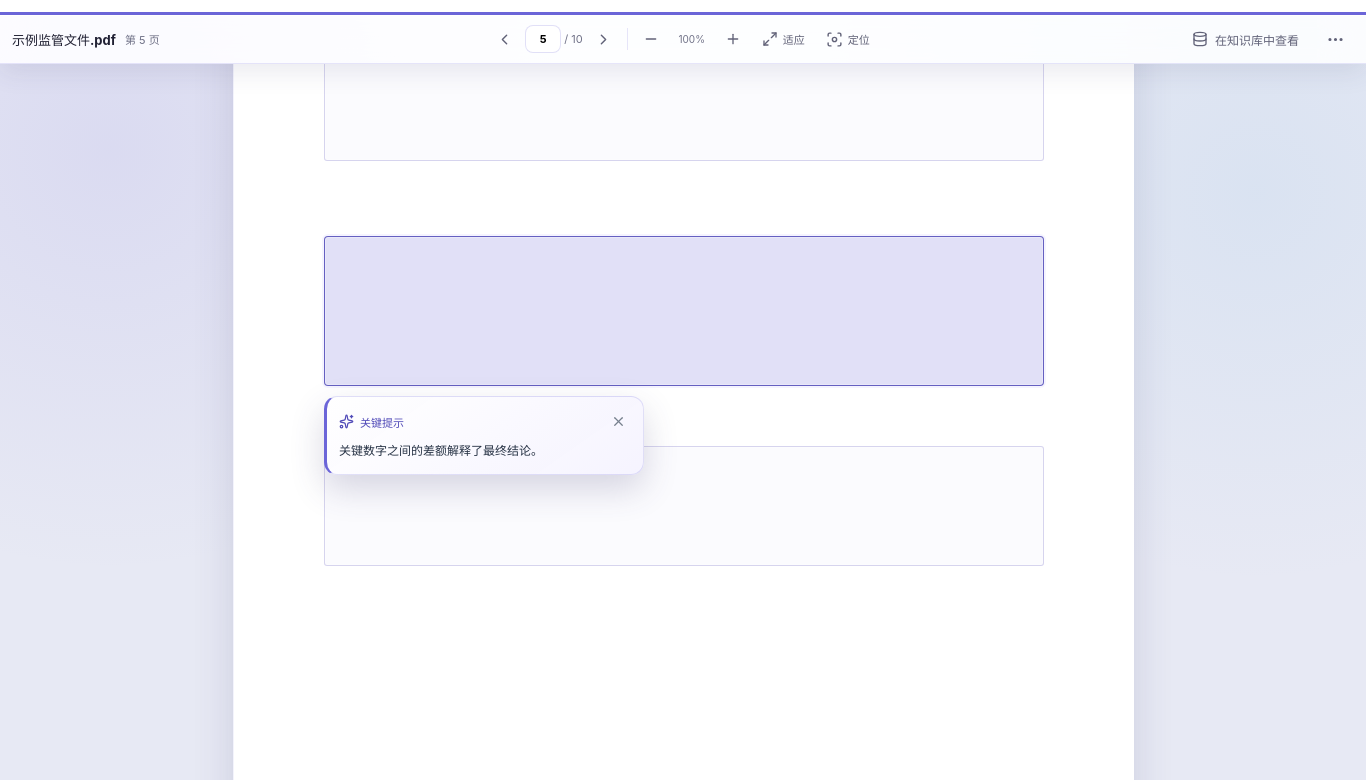
Test: ContinuousSourcePdfViewer › minimizes and restores the insight without changing the locate control
(page scrolled)
Expected: the text "关键数字之间的差额解释了最终结论。" is shown, top-left (339, 443), bottom-right (543, 458)
Click the button named "最小化关键提示".
click(618, 422)  # box top-left (606, 409), bottom-right (631, 434)
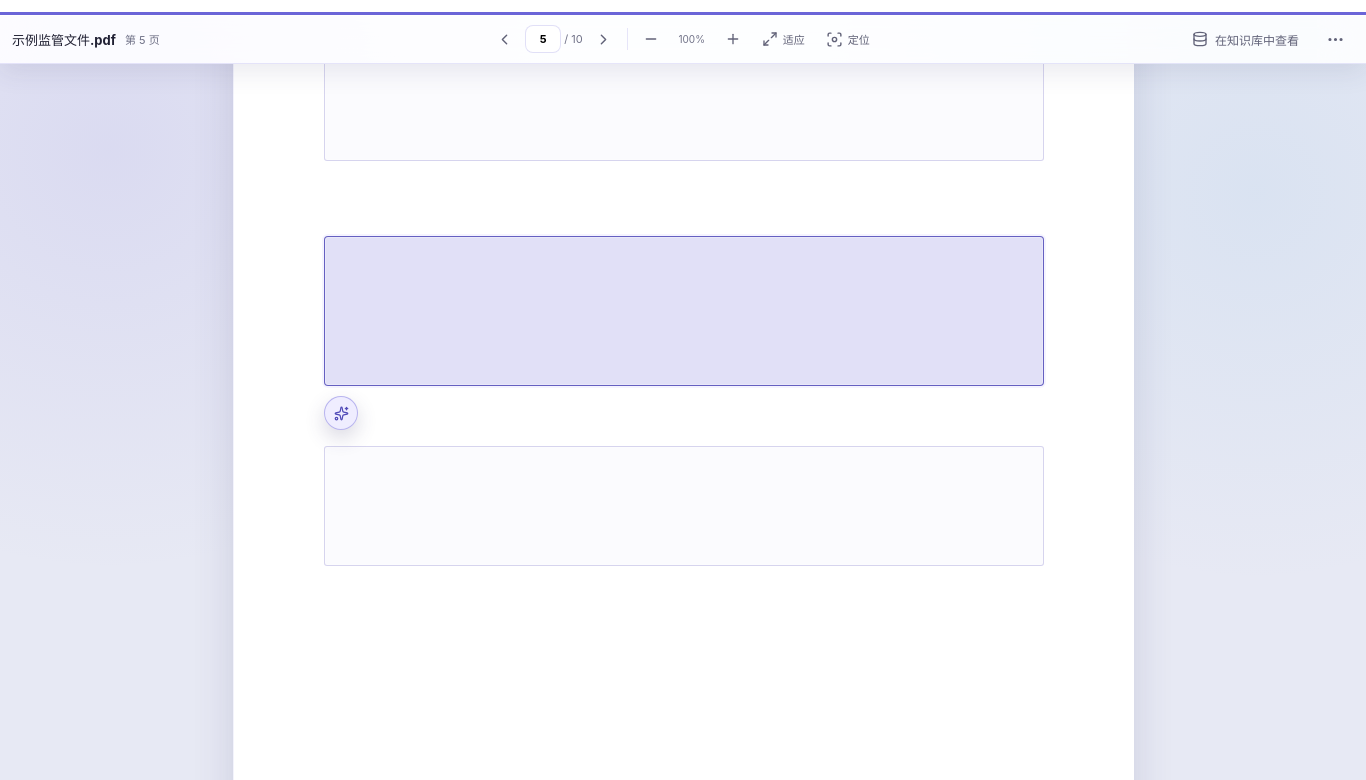
Expected: the text "关键数字之间的差额解释了最终结论。" is gone
Expected: the button named "展开关键提示" is shown, top-left (324, 396), bottom-right (358, 430)
Click the button with aria-label "定位引用".
click(848, 39)  # box top-left (817, 22), bottom-right (879, 56)
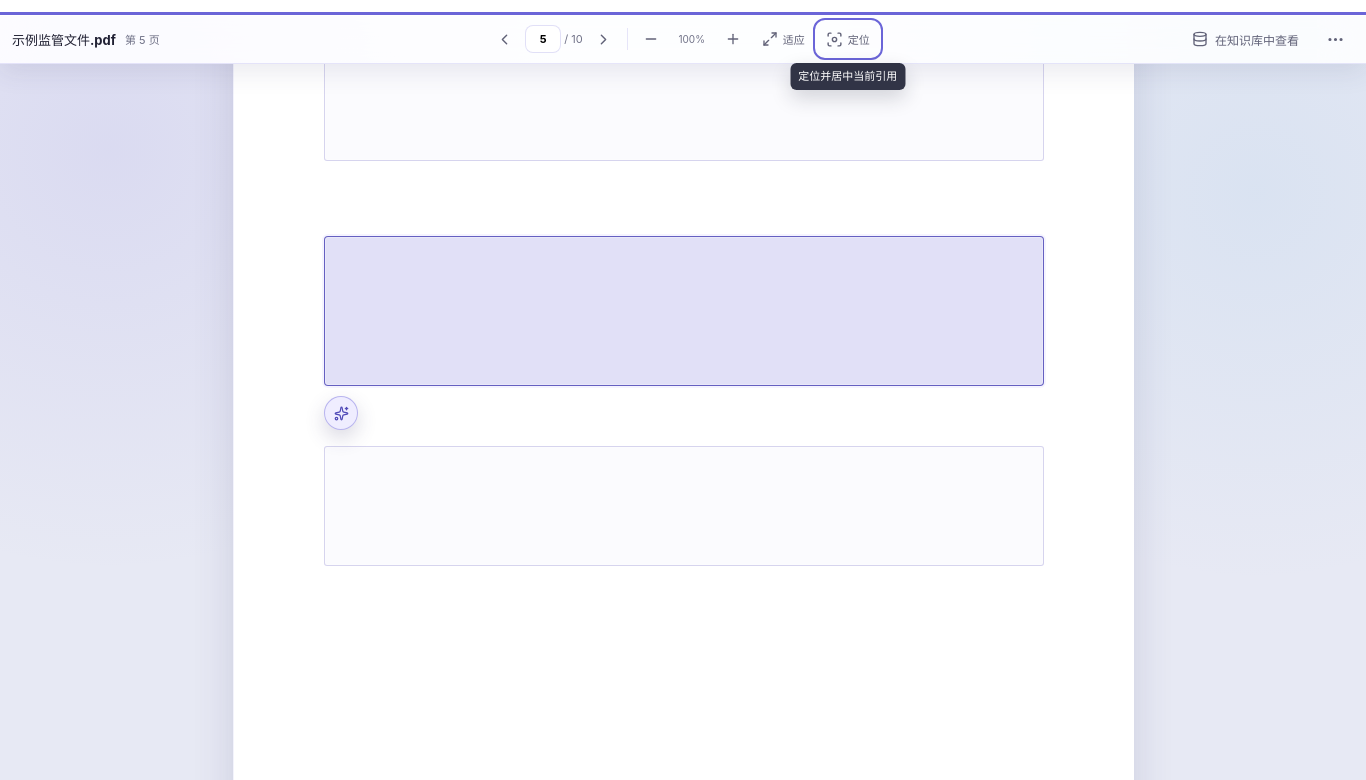
Expected: the button named "展开关键提示" is shown
Click the button named "展开关键提示".
click(341, 413)  # box top-left (324, 396), bottom-right (358, 430)
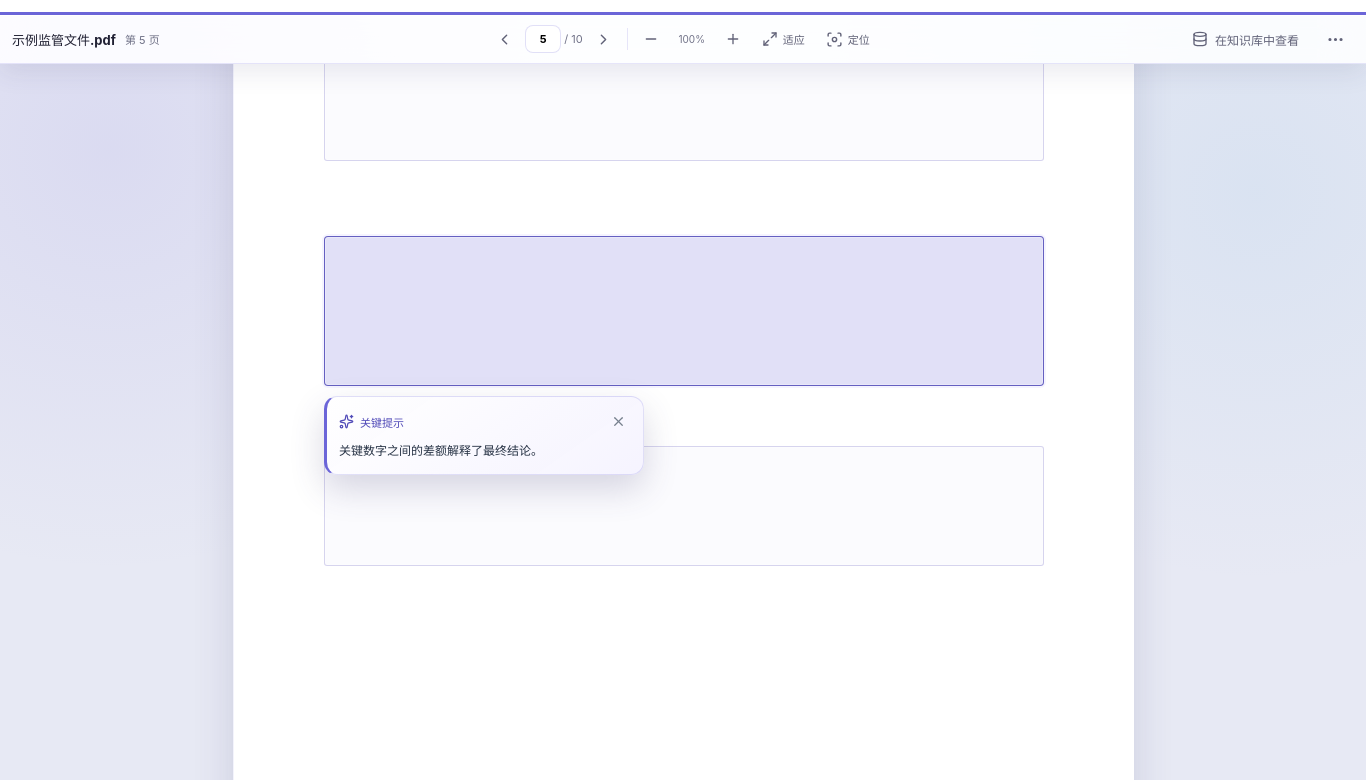
Expected: the text "关键数字之间的差额解释了最终结论。" is shown, top-left (339, 443), bottom-right (543, 458)
